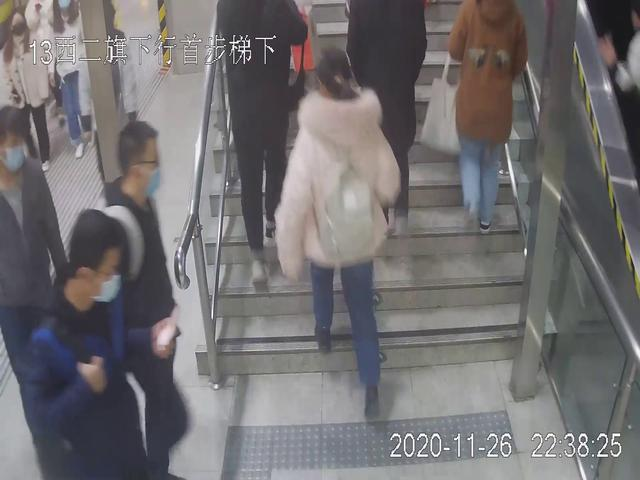person: (274, 47, 400, 428), (83, 119, 198, 480), (18, 206, 160, 480), (212, 1, 311, 286), (1, 100, 72, 477), (443, 1, 534, 233), (344, 1, 429, 240)
